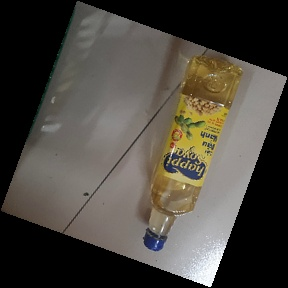Happy Soya: (142, 53, 243, 252)
